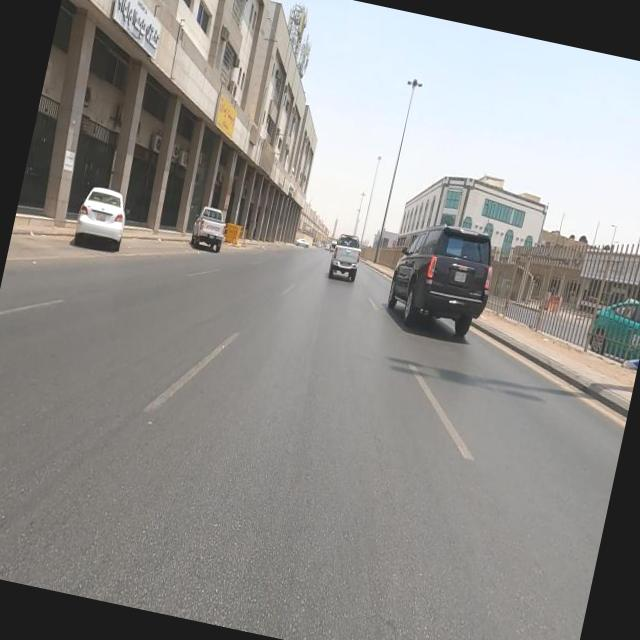debris: (240, 120, 294, 192), (233, 102, 282, 174)
